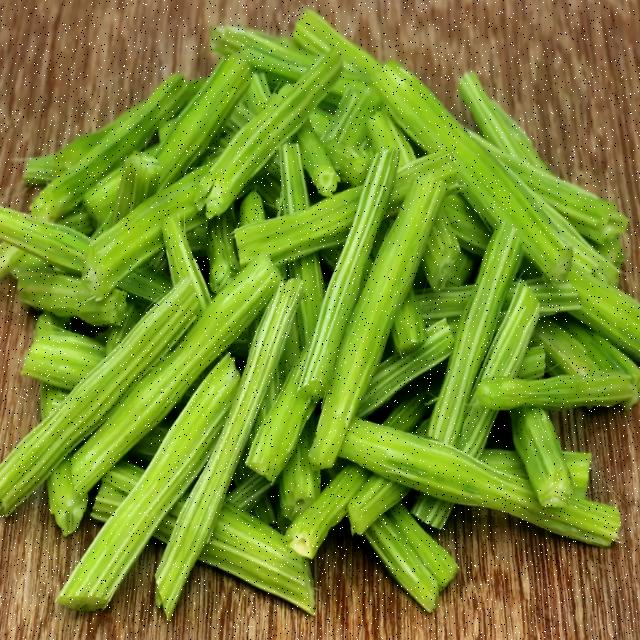Moringa Drumsticks: (3, 56, 596, 610)
